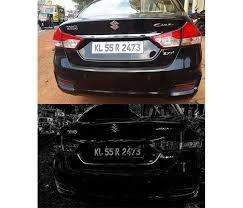Liscence Plate: (89, 142, 146, 159), (89, 39, 143, 56)
